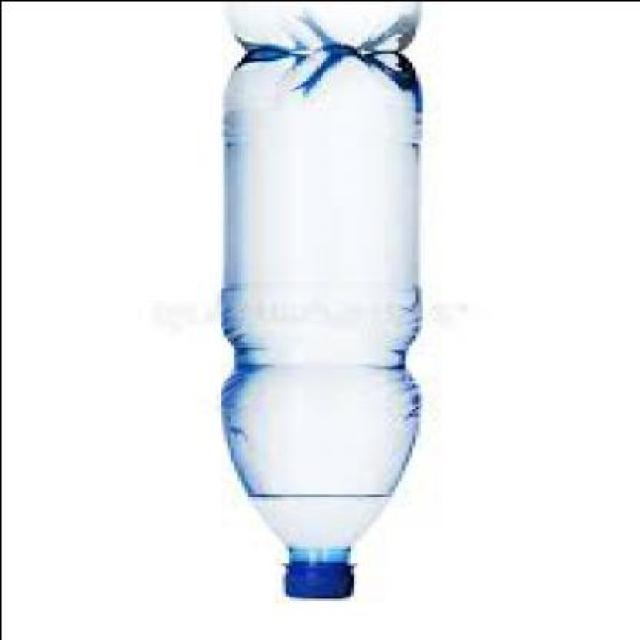PLASTIC: (212, 46, 418, 600), (281, 559, 348, 599)
